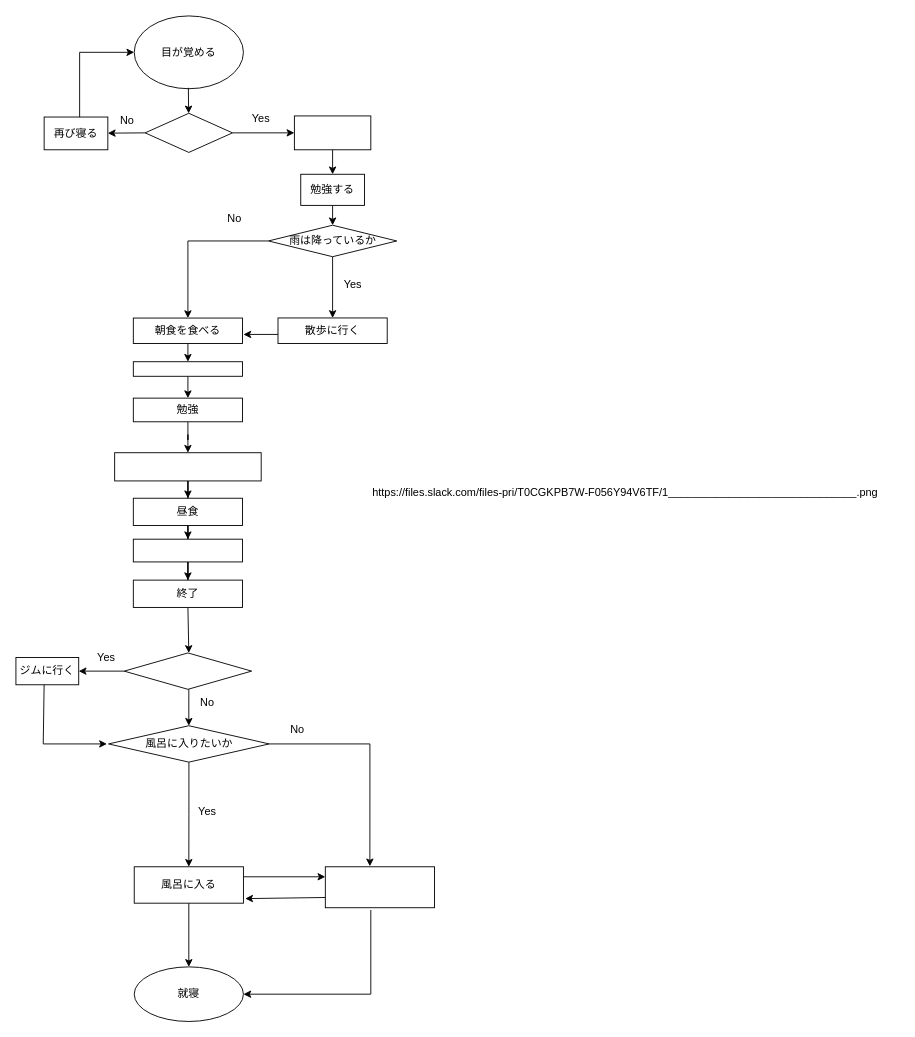
This 915x1037 diagram has some shape labels left out. The shapes that lost their labels are listed below. From the top down, each one's centre as x and y in pixels, then its label:
At (188,132): "ベットを出るか".
At (332,132): "顔を洗う".
At (187,368): "コーヒーを入れる".
At (187,466): "Dproのzoomにアクセス".
At (187,550): "Dproで勉強".
At (187,670): "元気があるか".
At (379,887): "晩御飯を食べる".
